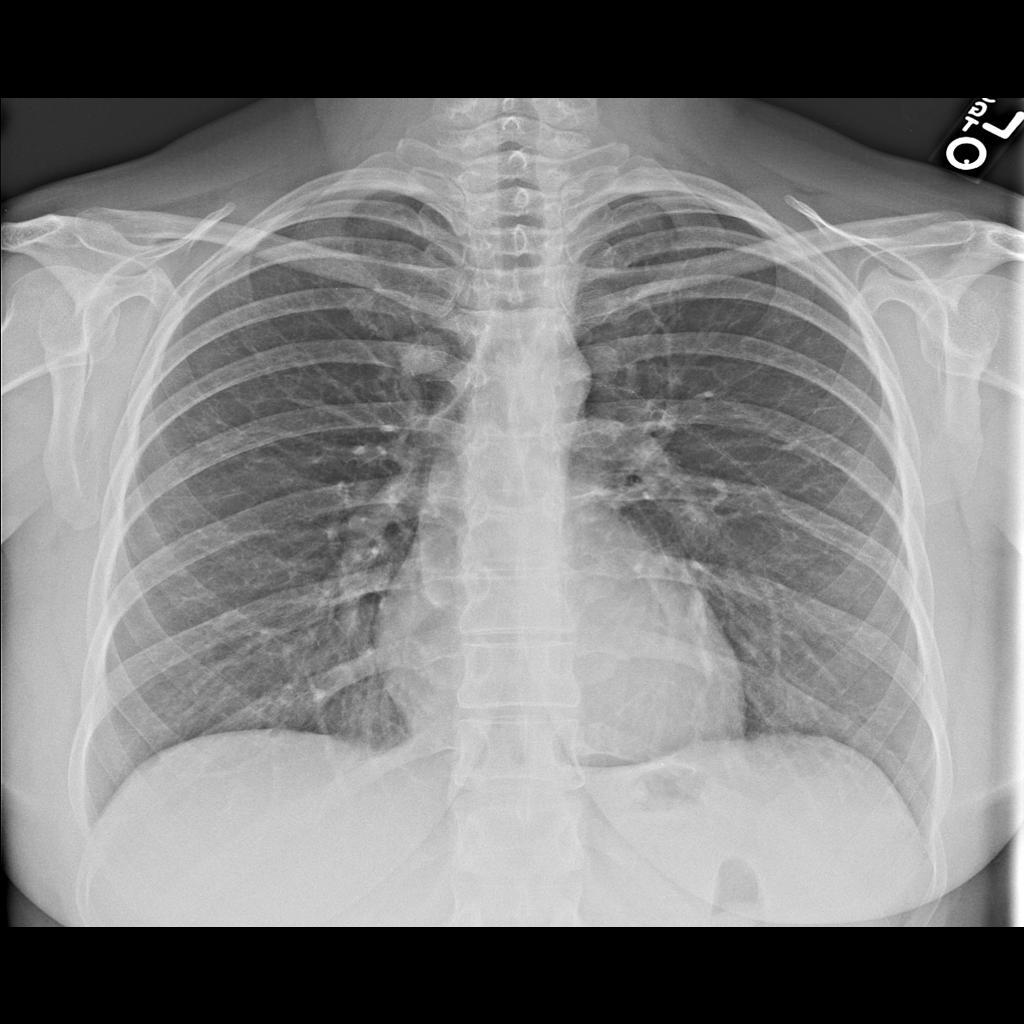Nodule: (397, 330, 451, 378)
